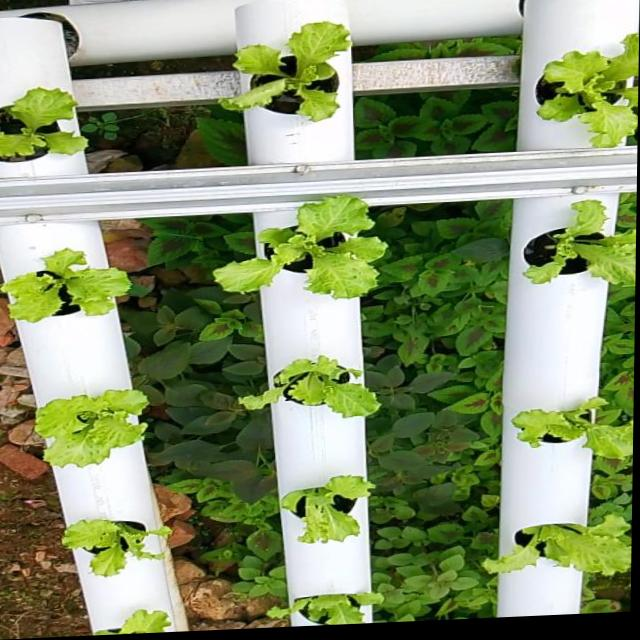Baby: (204, 195, 385, 300), (211, 15, 348, 119), (538, 29, 639, 145), (524, 199, 636, 288), (18, 393, 138, 474), (231, 359, 378, 423), (484, 522, 631, 585), (0, 248, 120, 325), (512, 401, 633, 467), (273, 483, 371, 552), (48, 527, 161, 586), (0, 83, 74, 158)
